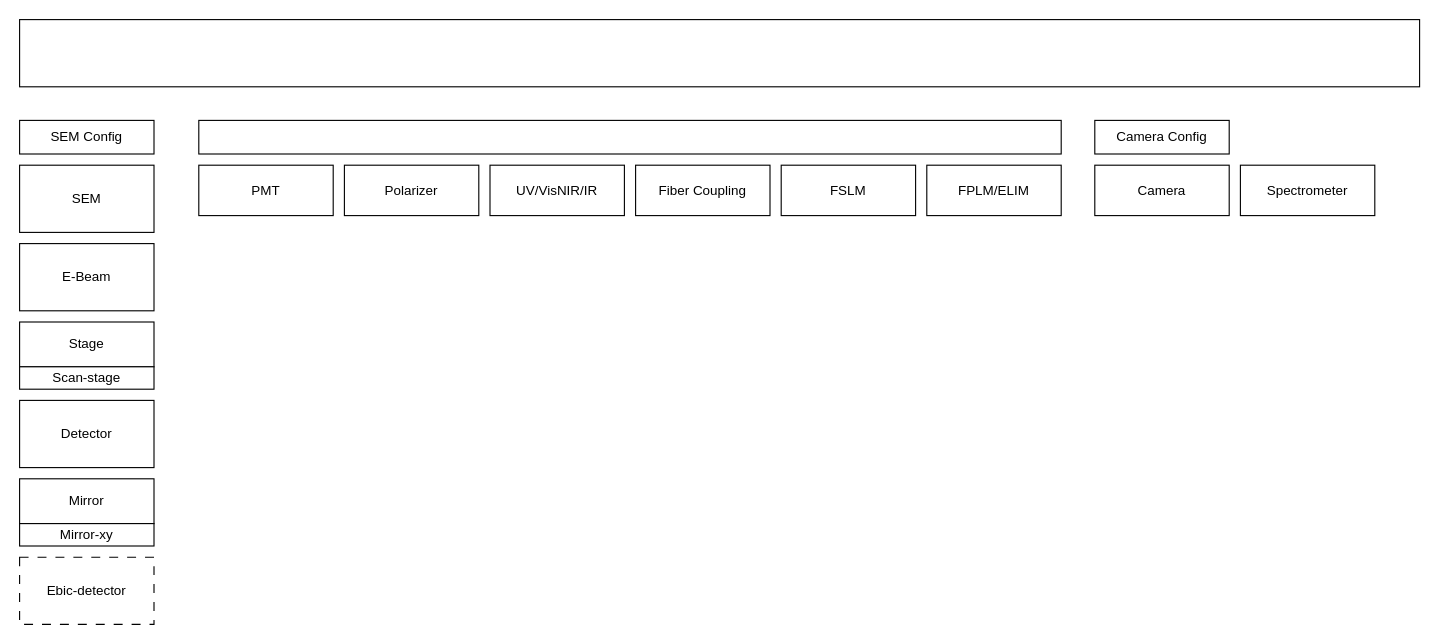
This 1439x644 diagram has some shape labels left out. The centre of each missing label's shape, as x and y in pixels:
Module config: point 629,136
SPARC Configuration: point 719,52
